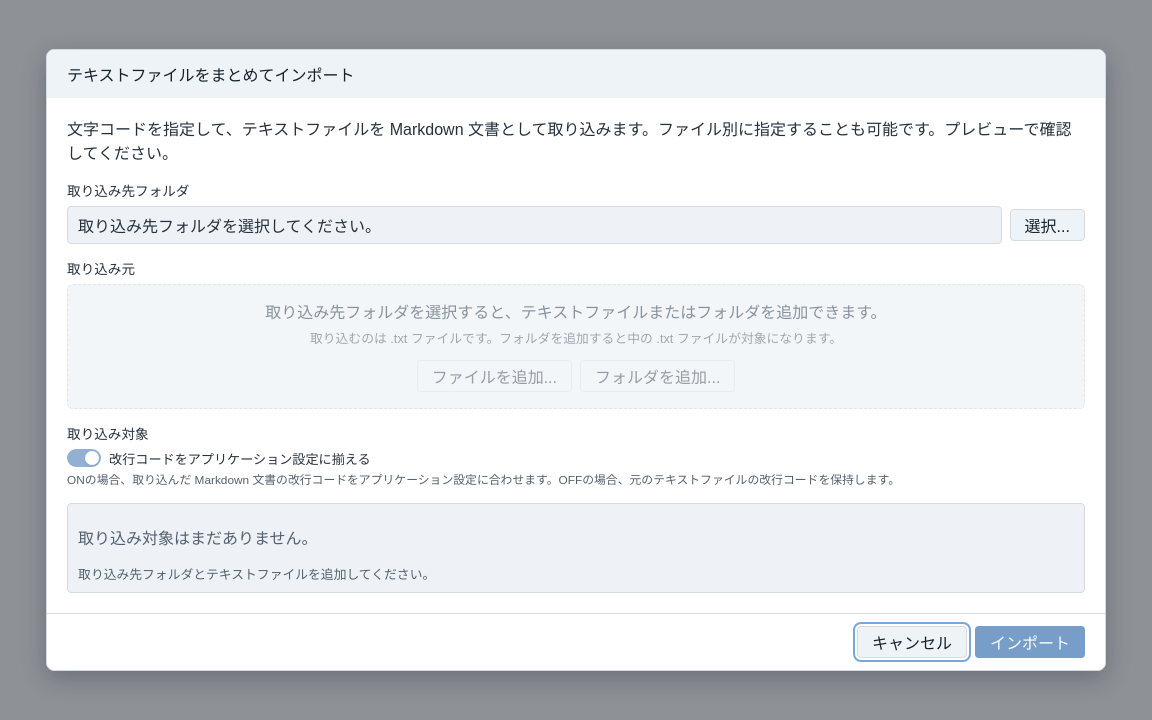
Test: BulkTextImportDialog (#420 Step 3 + 4) › shows a decorative folder icon per row that flips to the open variant on expand (#420)
Click the button with class "bulkTextImportDialogSelectDestinationButton" at (1047, 225), box [1010,209,1085,241]
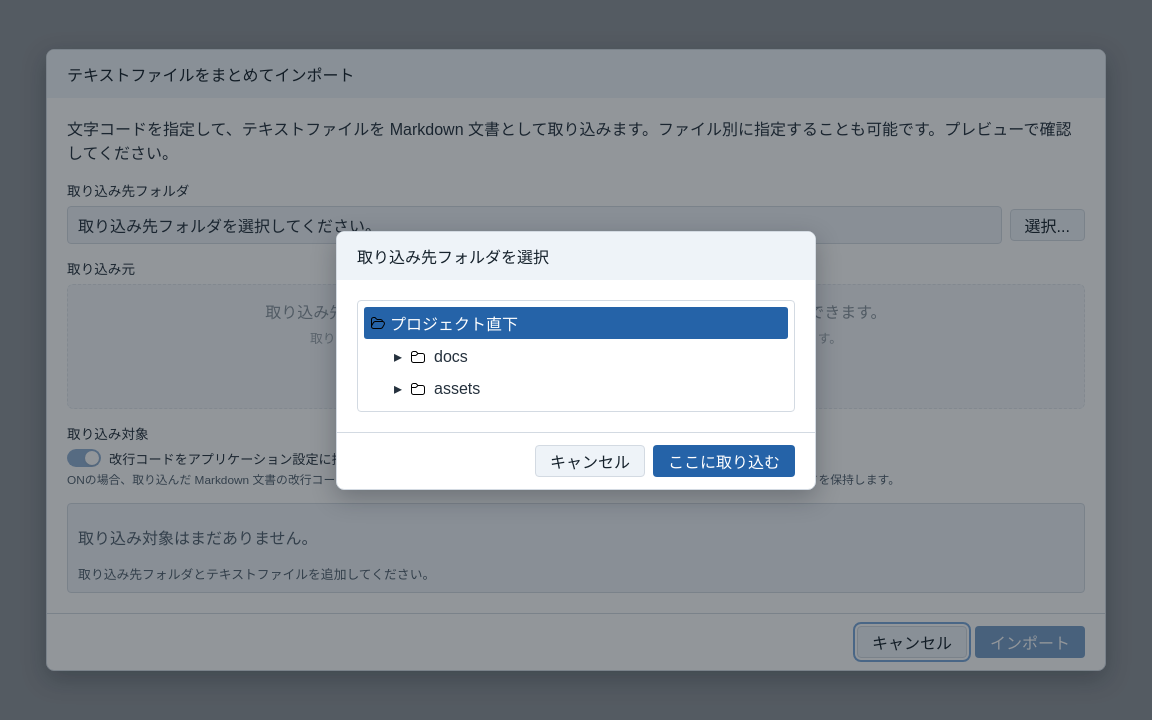
Check: the radio button labelled "docs" is shown, box [428,340,788,372]
Click the 1st button with class "textImportDestinationPickerTwisty" at (394, 356), box [380,340,408,372]
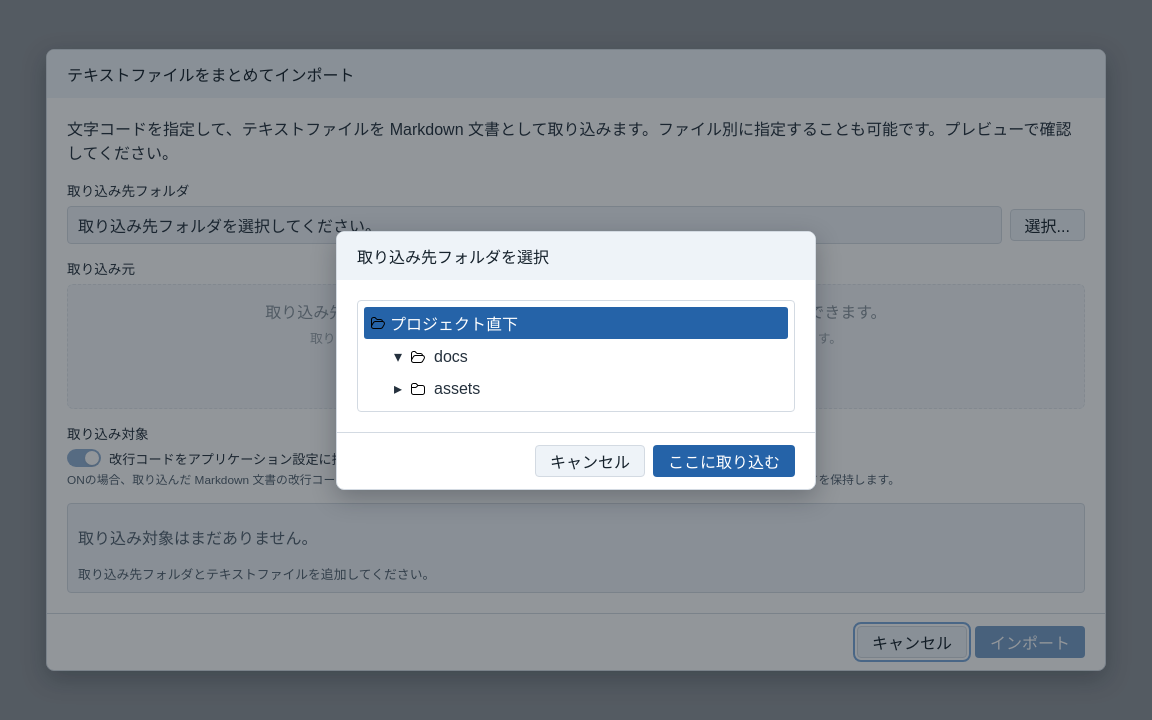
Check: the radio button with class "textImportDestinationPickerName" reads "docs", box [428,340,788,372]
Check: the button with class "textImportDestinationPickerTwisty" is expanded, box [380,340,408,372]
